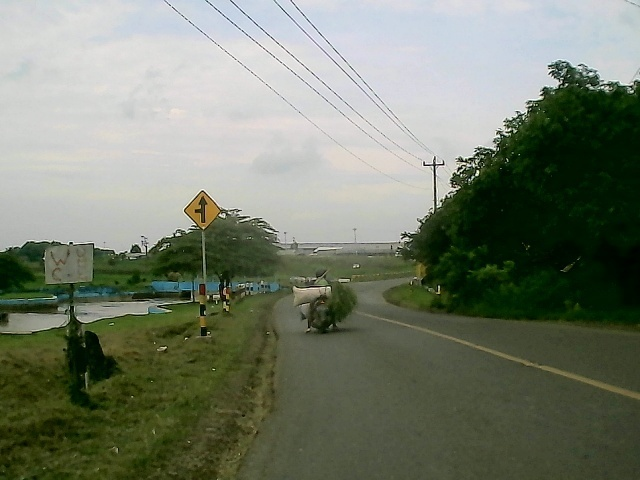Simpang kiri dengan prioritas: (183, 188, 223, 231)
